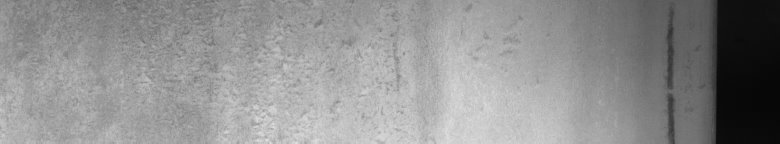hd: (668, 23, 674, 136)
